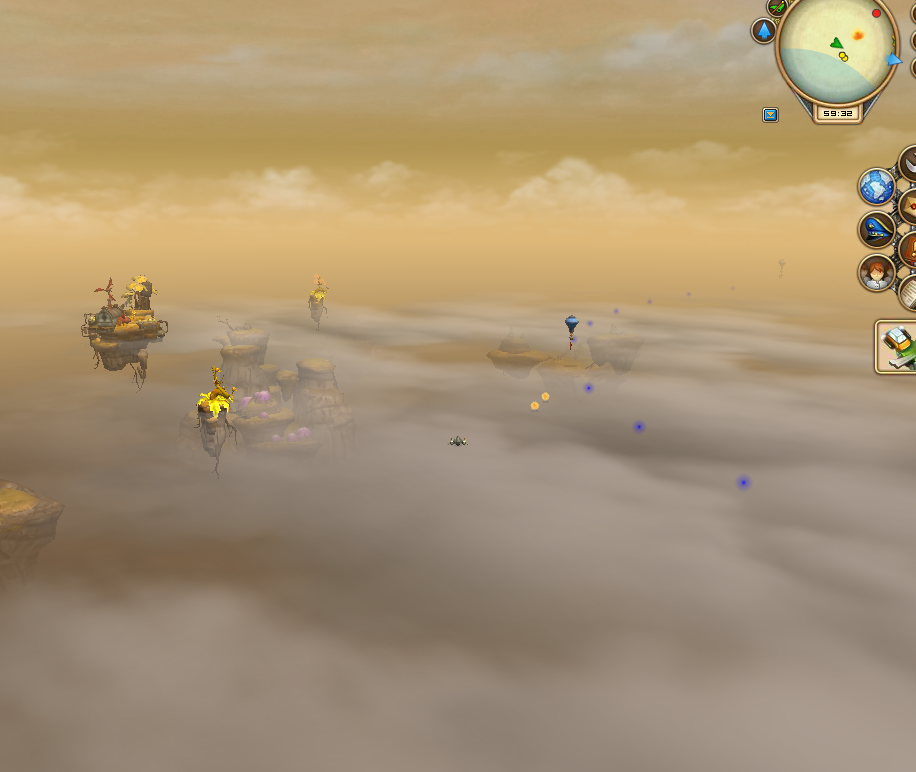dandelion-empty: (192, 360, 241, 461)
dandelion-full: (304, 270, 332, 328)
fluff: (538, 387, 553, 405), (528, 400, 542, 413)
